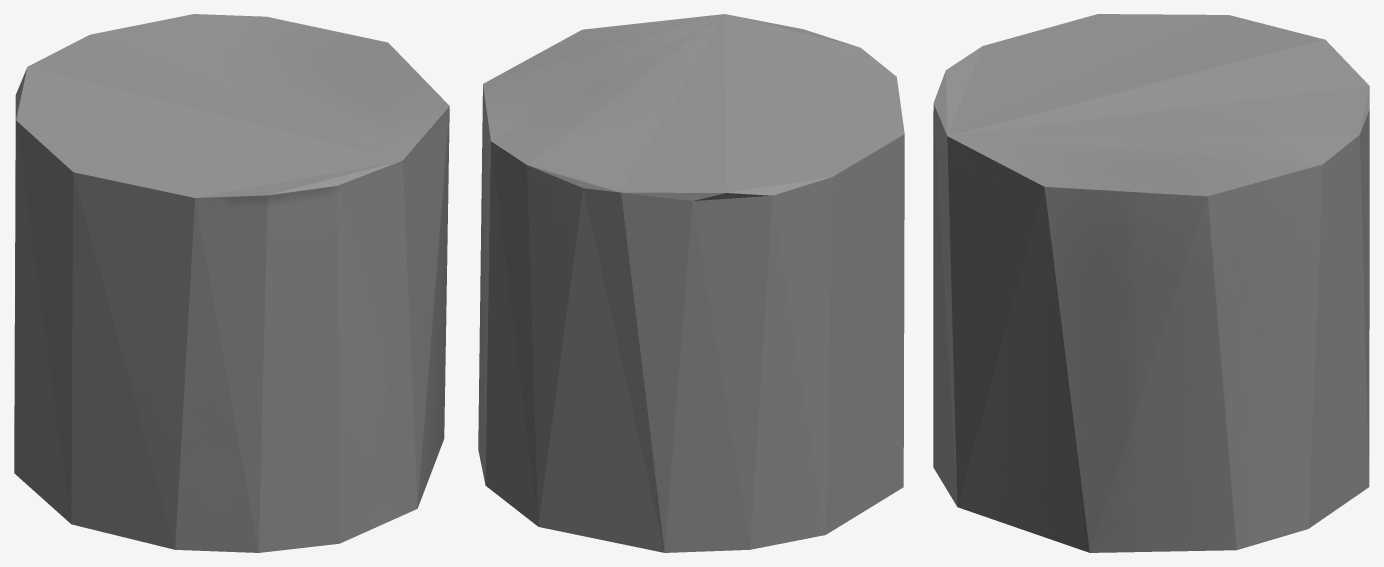
File: metal2_1a.dae
3 renders of one model, left to right at view 1: azimuth 30°, elevation 25°; view 2: azimuth 150°, elevation 25°; view 3: azimuth 270°, elevation 25°, orthographic.
Parts seen in each view (by area): view 1: node; view 2: node; view 3: node.
Part boxes in pixels (left/top/right/bottom): node: left=14, top=14, right=449, bottom=552; node: left=478, top=14, right=904, bottom=552; node: left=933, top=14, right=1369, bottom=552.
Size of the model in its own units: 0.2854 by 0.2687 by 0.2883.
Materials: 1 (1 with a texture image).
